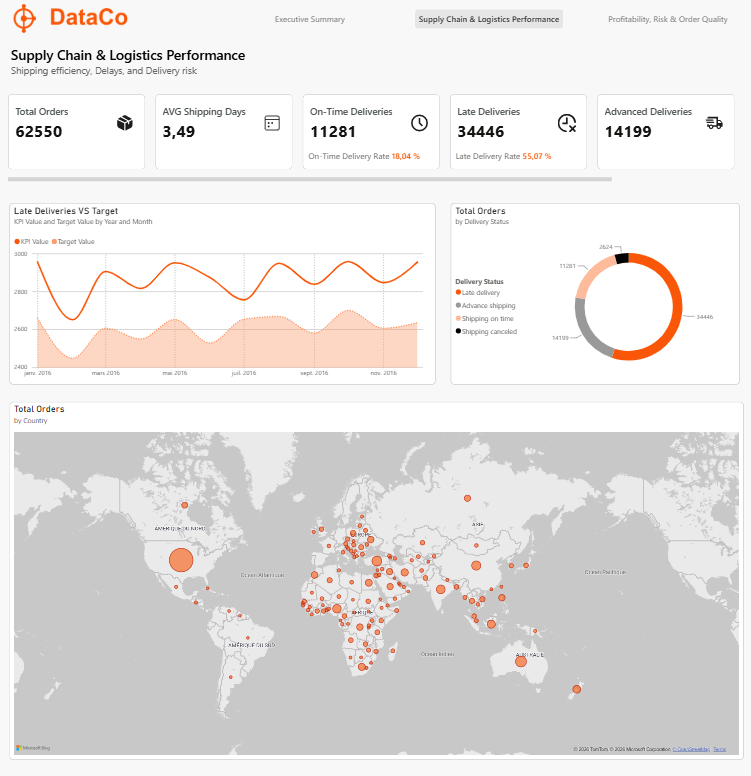

What the dashboard file says about the page in this screenshot:
{"tool":"powerbi","page":{"name":"Supply Chain & Logistics Performance","canvas":[1500,1600],"ordinal":1},"visuals":[{"type":"lineChart","title":"Late Deliveries VS Target","fields":{"Category":["Dim - Date.Full Date.Variation.Date Hierarchy.Year","Dim - Date.Full Date.Variation.Date Hierarchy.Month","Dim - Date.Full Date.Variation.Date Hierarchy.Day"],"Y":["Measures Table.Late Deliveries","Measures Table.Late Deliveries Target"]},"box":[33.3,410,832.5,355],"z":0},{"type":"donutChart","fields":{"Category":["Fact - DataCo Supply Chain Dataset.Delivery Status"],"Y":["Measures Table.Total Orders"]},"box":[896.7,410,565,355],"z":2000},{"type":"map","fields":{"Category":["Dim - Cities Data.Country"],"Size":["Measures Table.Total Orders"]},"box":[31.7,788.3,1435,700],"z":3000},{"type":"image","box":[32.2,13.3,261.1,74.4],"z":7000},{"type":"pageNavigator","box":[475.7,31.4,992,38],"z":8000},{"type":"cardVisual","fields":{"Data":["Measures Table.Total Orders","Measures Table.Average Shipping Days","Measures Table.On-Time Deliveries","Measures Table.Late Deliveries","Measures Table.Advanced Deliveries","Measures Table.Canceled Deliveries"]},"box":[14,182,1454,194],"z":9000},{"type":"textbox","box":[32.5,98.3,700,72.5],"z":10000}]}

Visuals, with their boxes on the page's 1500x1600 design canvas (x1, y1, x2, y2). These are canvas units, not pixel positions in the 751x776 screenshot, which may show the page scaled, cropped or inside an application window:
"Late Deliveries VS Target" lineChart: select_region(33, 410, 866, 765)
donutChart - Fact - DataCo Supply Chain Dataset.Delivery Status x Measures Table.Total Orders: select_region(897, 410, 1462, 765)
map - Dim - Cities Data.Country x Measures Table.Total Orders: select_region(32, 788, 1467, 1488)
image: select_region(32, 13, 293, 88)
pageNavigator: select_region(476, 31, 1468, 69)
cardVisual - Measures Table.Total Orders x Measures Table.Average Shipping Days: select_region(14, 182, 1468, 376)
textbox: select_region(32, 98, 732, 171)
